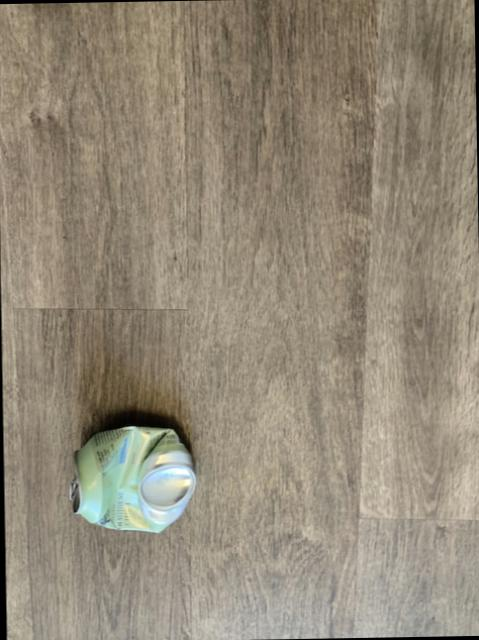metal: (70, 428, 196, 534)
